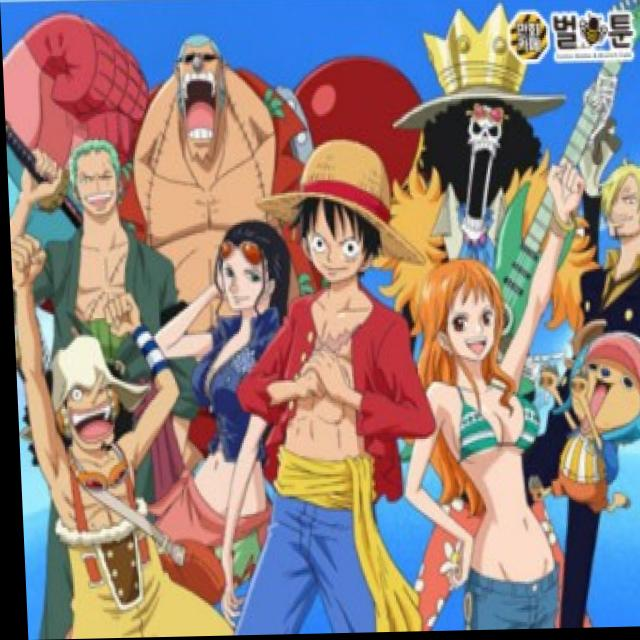Blook: (418, 61, 532, 251)
Chyopa: (514, 328, 640, 524)
Franky: (162, 29, 237, 166)
Luffy: (257, 144, 420, 291)
Nami: (411, 267, 507, 390)
NicoRobin: (201, 210, 296, 333)
Sangdi: (593, 165, 640, 253)
Usopp: (37, 321, 138, 457)
Zoro: (56, 134, 134, 226)
